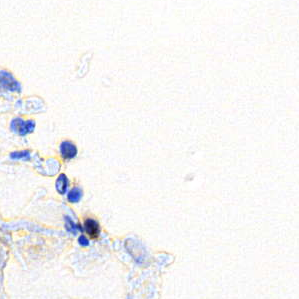Lymphocyte: (84, 217, 104, 239)
